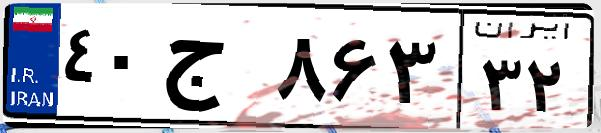0: (110, 28, 158, 98)
2: (525, 38, 570, 115)
3: (385, 28, 445, 110), (475, 38, 525, 113)
4: (57, 26, 110, 100)
6: (330, 28, 385, 110)
8: (270, 28, 330, 110)
ج: (158, 20, 270, 120)
